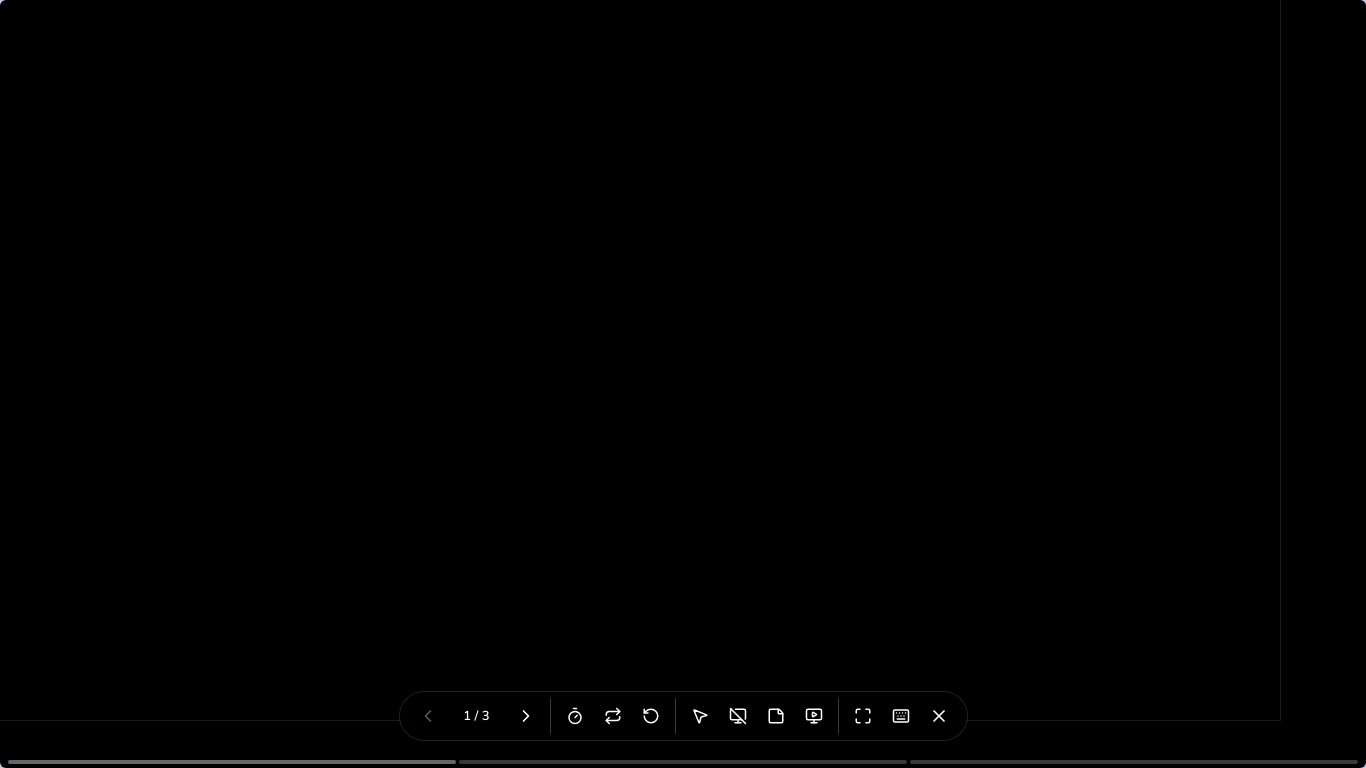
Test case: Presenter › the presenter view button tells a blocked pop-up from success
Click the button with test id "present-view".
click(814, 716)  # box [796, 698, 832, 734]
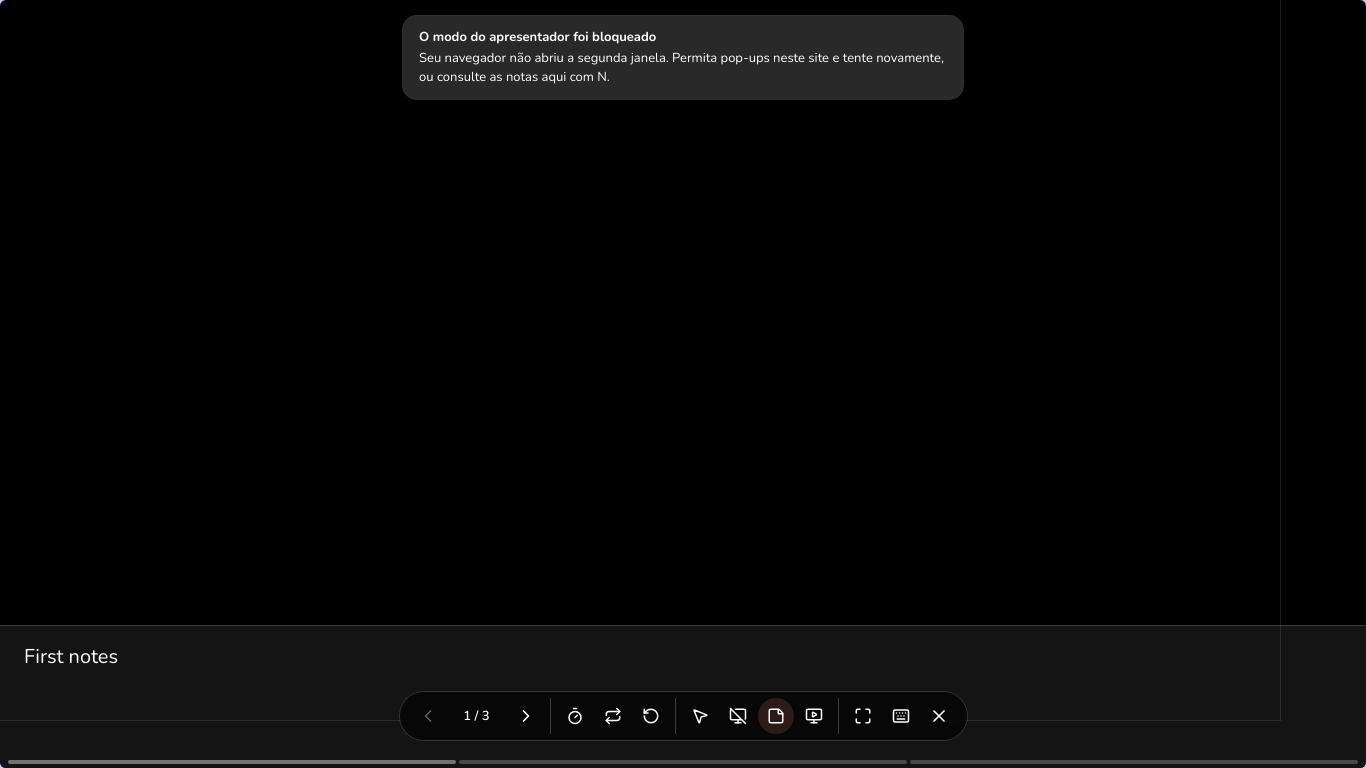
Check: the message with test id "present-message" shows "O modo do apresentador foi bloqueado", box [419, 28, 656, 46]
Check: the element with test id "present-notes" is shown, box [0, 625, 1365, 767]
Click the button with test id "present-view".
click(814, 716)  # box [796, 698, 832, 734]
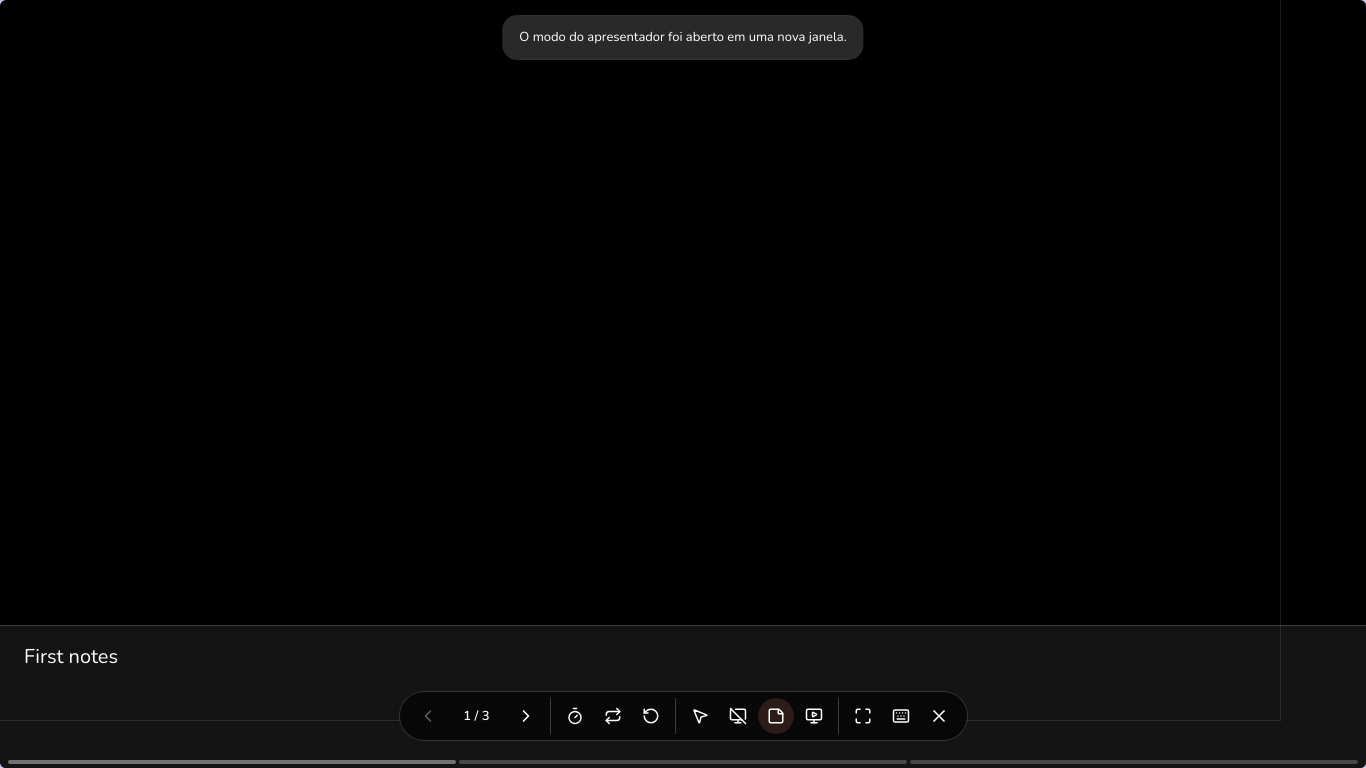
Check: the message with test id "present-message" reads "O modo do apresentador foi aberto em uma nova janela.", box [519, 28, 847, 46]
